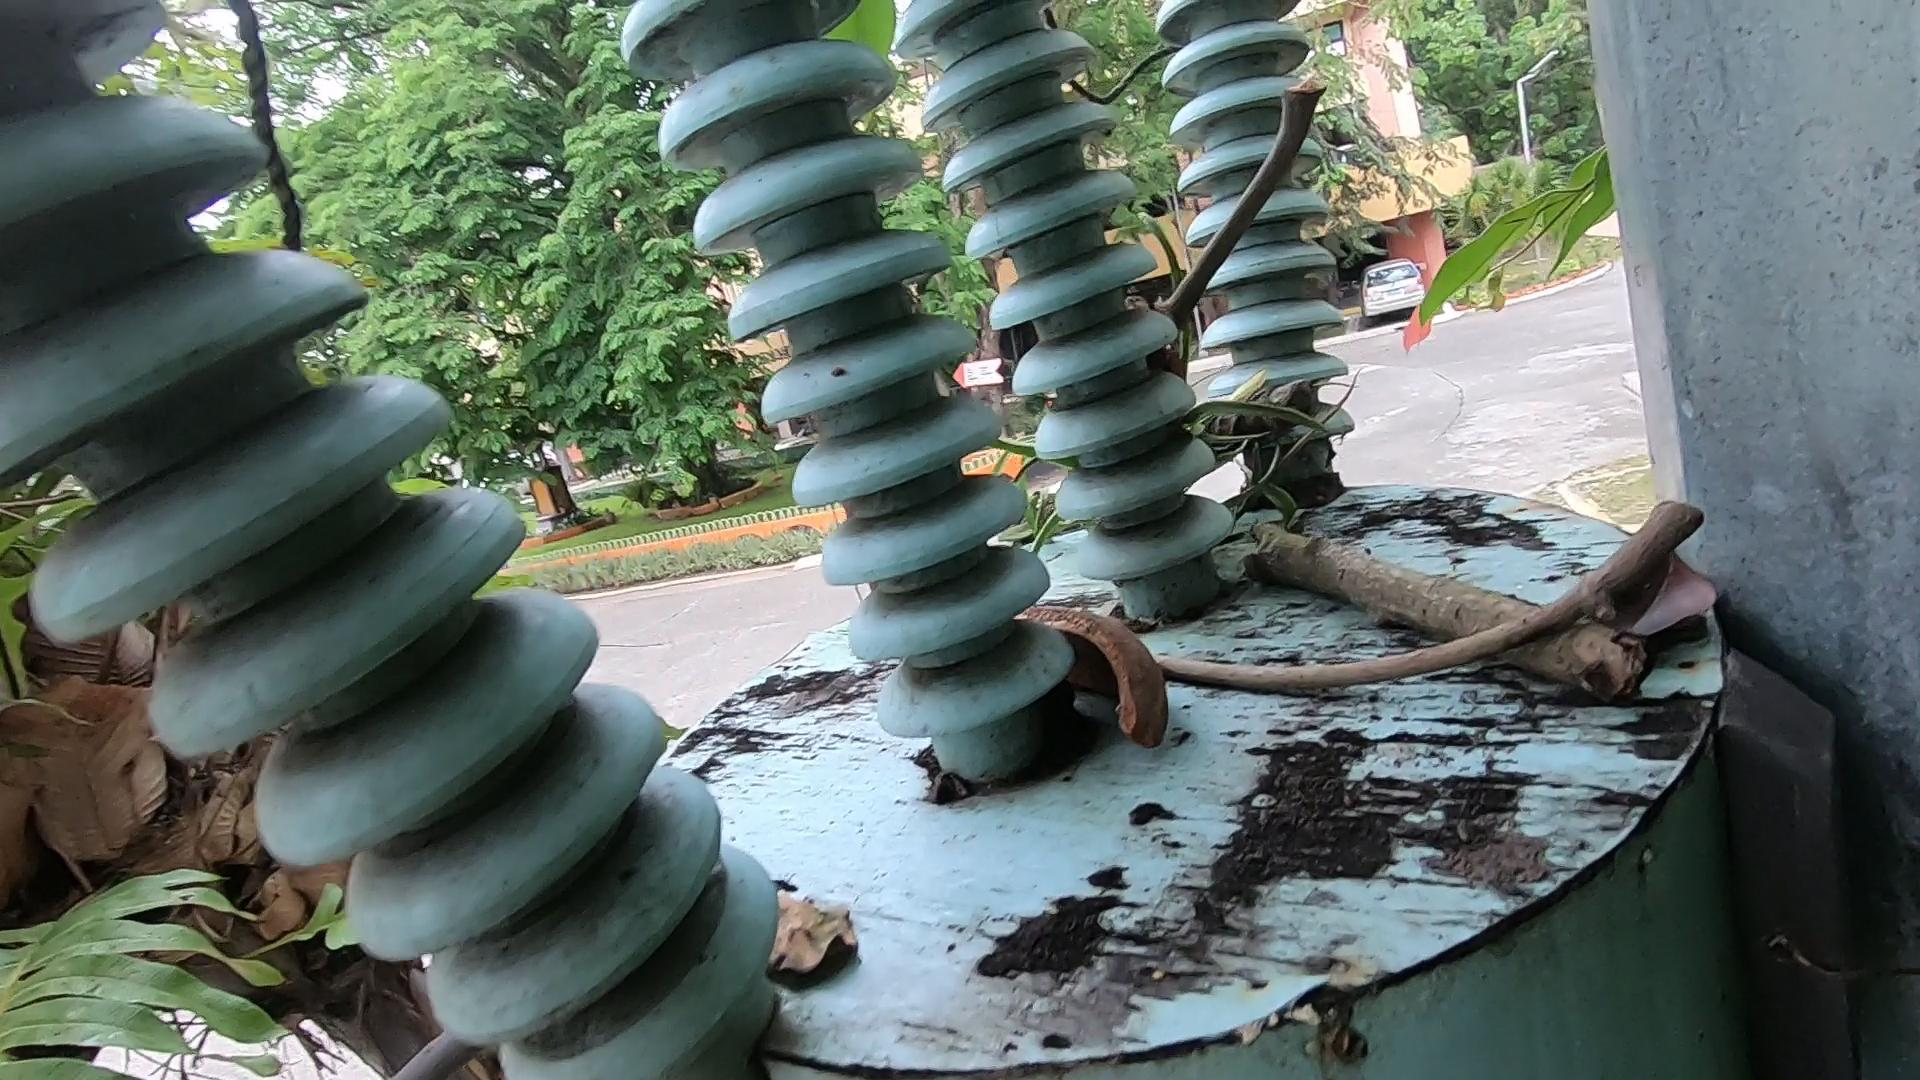branch with leaves: (1166, 348, 1647, 713)
leaf: (702, 823, 960, 1054), (1586, 477, 1726, 667)
mahogany fruit: (978, 559, 1212, 785)
tree branch: (1129, 501, 1578, 836), (1147, 21, 1358, 401)
